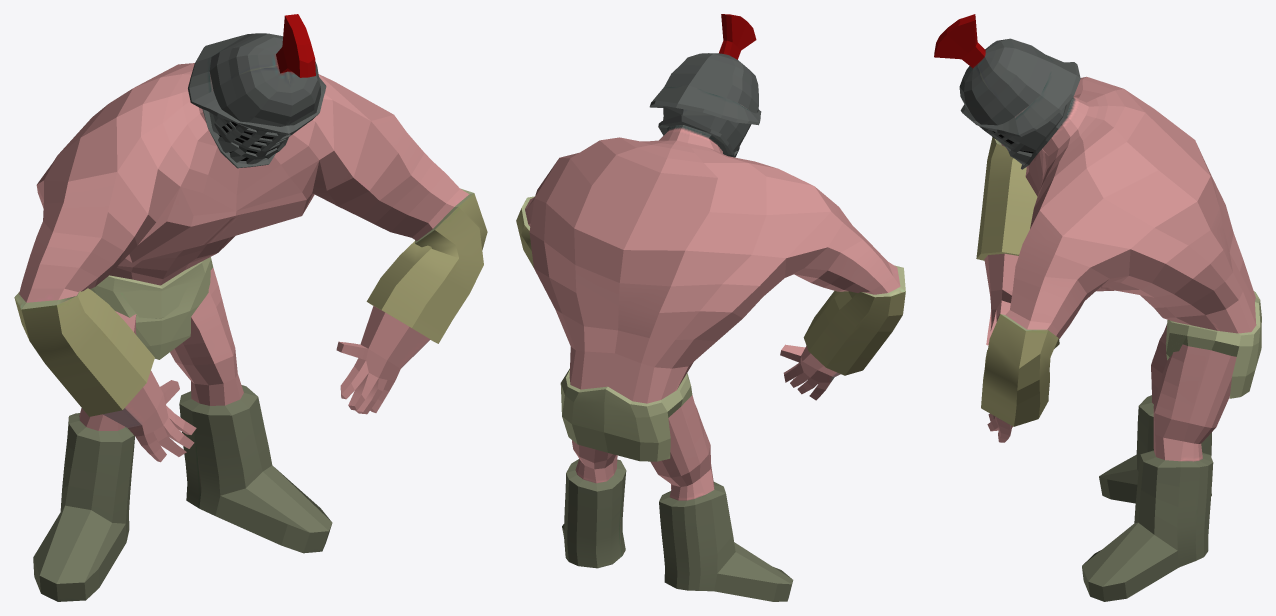
The model's file is GladiatorCelebracion_000496.obj.
3 views of the same model, side by side, from view 1: azimuth 30°, elevation 25°; view 2: azimuth 150°, elevation 25°; view 3: azimuth 270°, elevation 25° (orthographic). The views are drawn at different scales.
Visible parts, largest first — view 1: Gadiador_Gladiador_H; view 2: Gadiador_Gladiador_H; view 3: Gadiador_Gladiador_H.
Part boxes in pixels (x1,y1,x2,y2): Gadiador_Gladiador_H: [14, 14, 487, 601]; Gadiador_Gladiador_H: [516, 14, 905, 601]; Gadiador_Gladiador_H: [934, 14, 1261, 601].
Bounding box in the file's own units: 5.14 × 6.44 × 3.55.
1 material, 1 textured.
